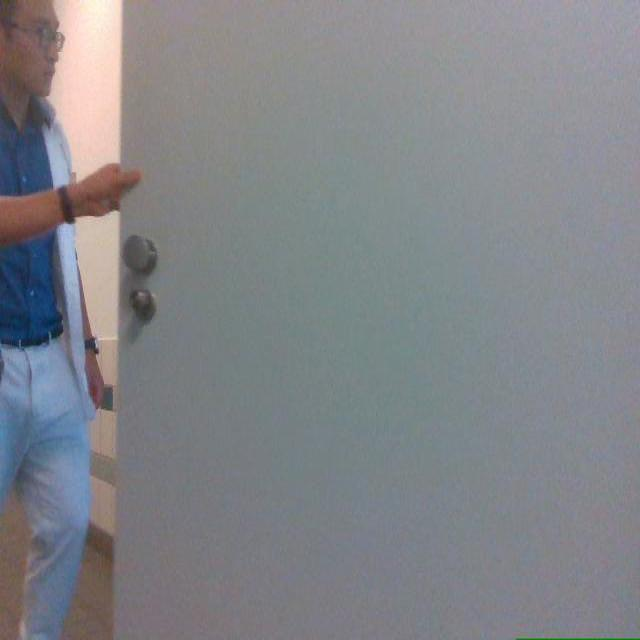humans: (0, 0, 139, 639)
objects: (113, 0, 639, 639)
